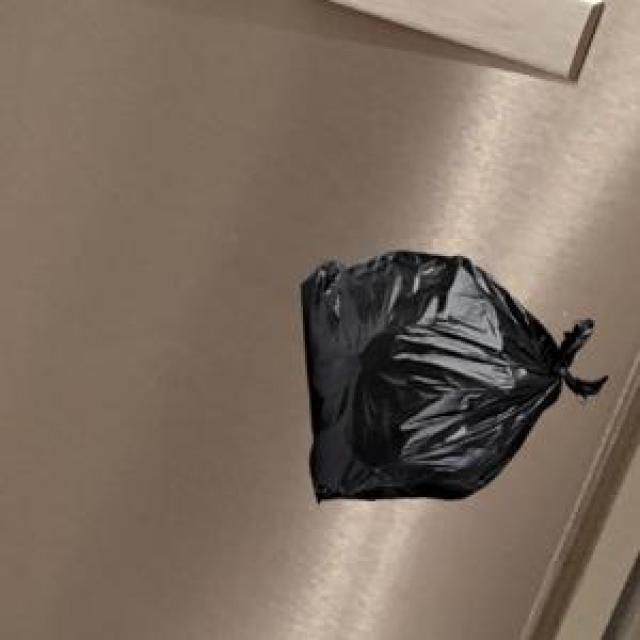miscellaneous trash: (299, 248, 604, 499)
